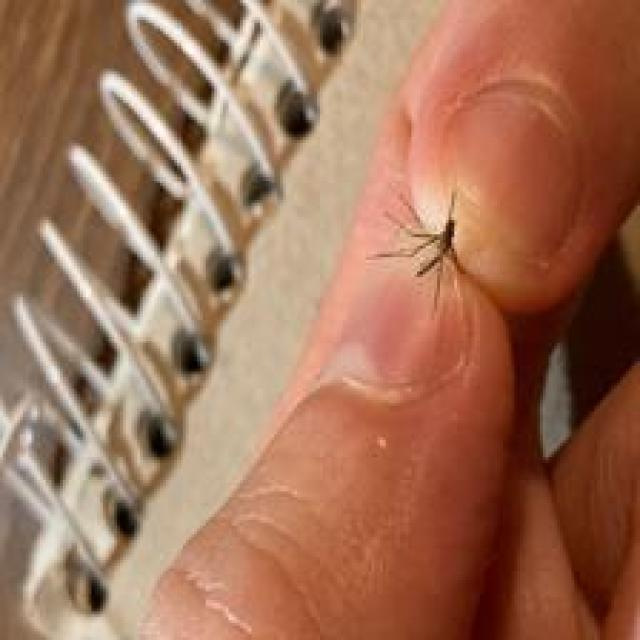Culex: (0, 0, 369, 640)
